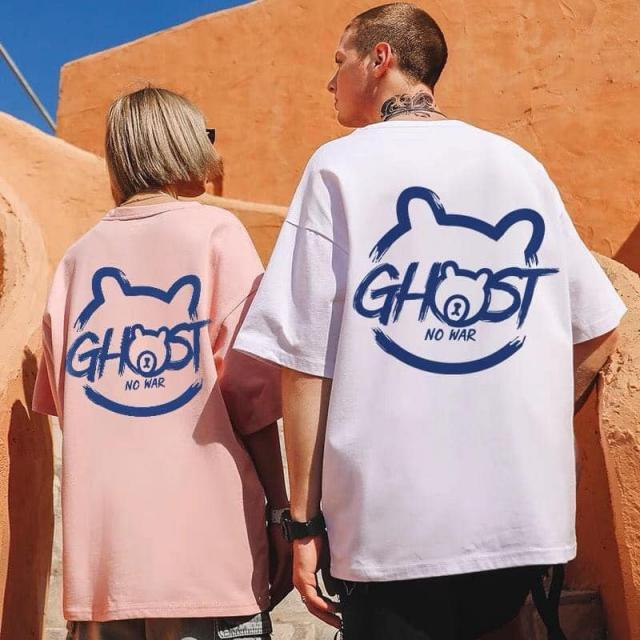Shirt: (235, 119, 625, 575), (34, 195, 280, 620)
